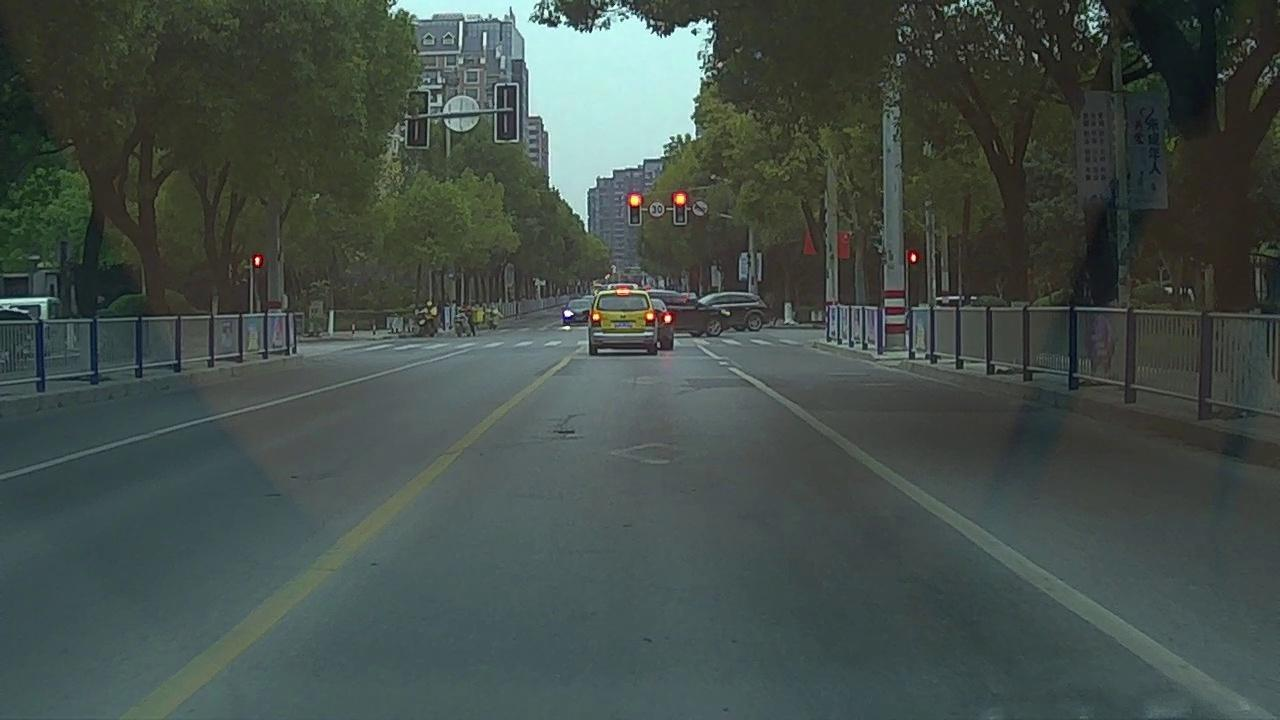traffic_light: (673, 192, 686, 224), (630, 194, 639, 224)
